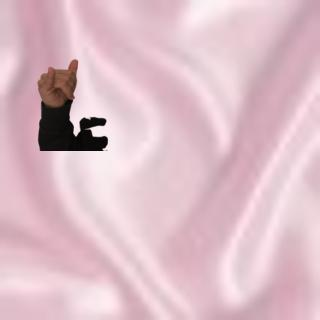HAVE: (32, 55, 83, 109)
